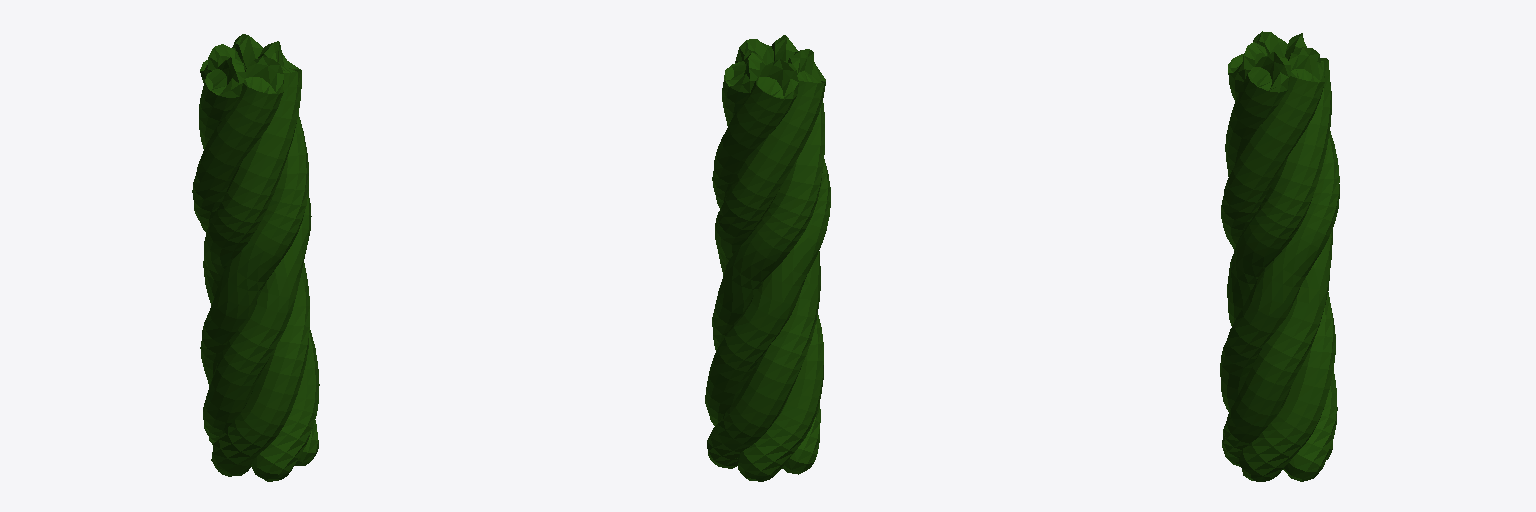
Rendered from vine4.obj.
3 renders of one model, left to right at view 1: azimuth 30°, elevation 25°; view 2: azimuth 150°, elevation 25°; view 3: azimuth 270°, elevation 25°, orthographic.
Parts seen in each view (by area): view 1: s0001.63756; view 2: s0001.63756; view 3: s0001.63756.
Part boxes in pixels (bbox=[...]): s0001.63756: bbox=[192, 34, 319, 481]; s0001.63756: bbox=[705, 35, 830, 481]; s0001.63756: bbox=[1220, 31, 1339, 481].
Bounding box in the file's own units: 0.1376 × 0.5151 × 0.1323.